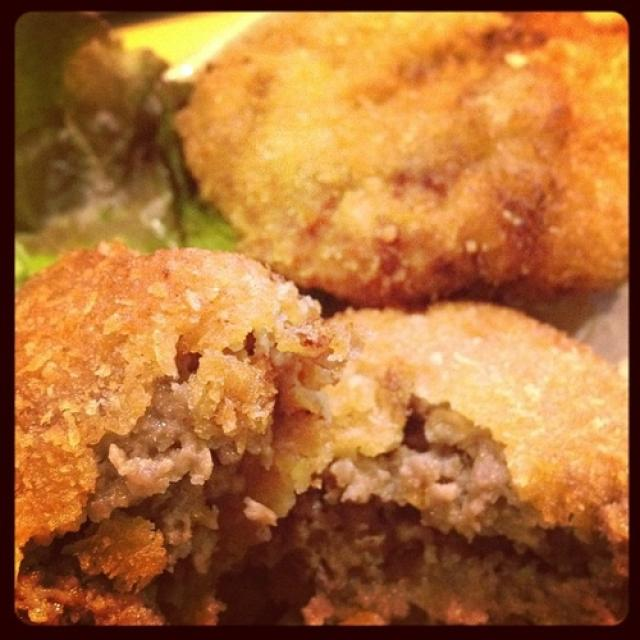炸货点心: (76, 74, 574, 562)
